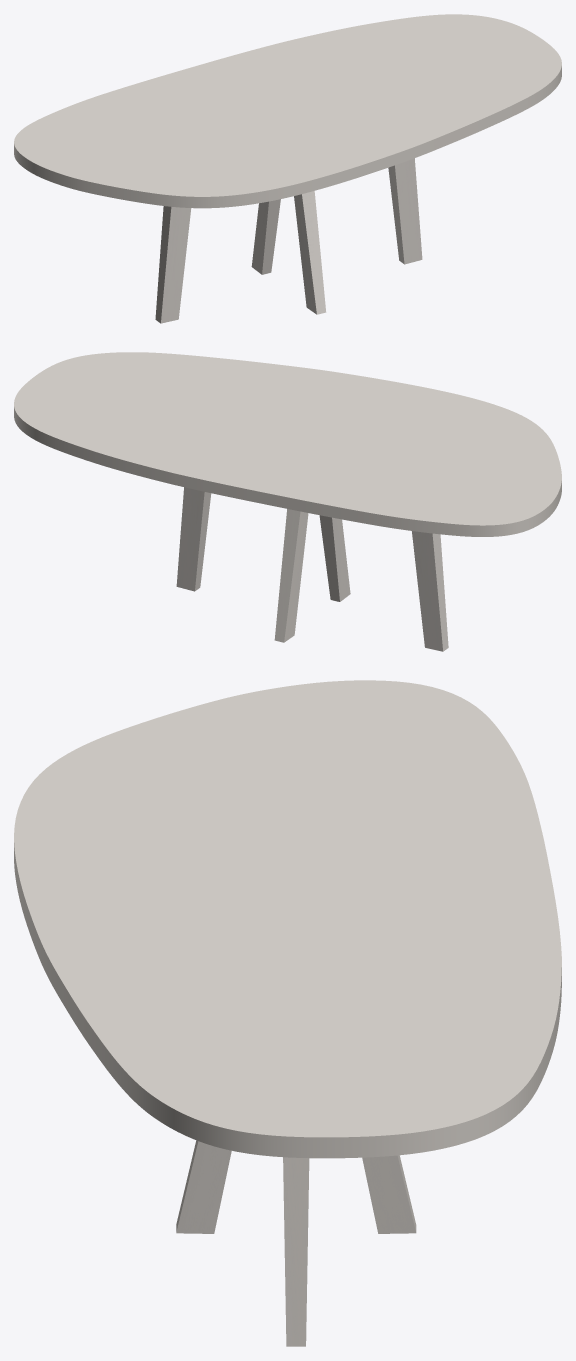
Rendered from pearlwhite_leaf2_standard_searwalnut.glb.
The picture shows the model from 3 angles, top to bottom: view 1: azimuth 30°, elevation 25°; view 2: azimuth 150°, elevation 25°; view 3: azimuth 270°, elevation 25°; orthographic projection. The views are drawn at different scales.
Parts seen in each view (by area): view 1: standard_leaf2, searwalnut; view 2: standard_leaf2, searwalnut; view 3: standard_leaf2, searwalnut.
Part boxes in pixels (bbox=[...]): standard_leaf2: bbox=[14, 14, 561, 208]; searwalnut: bbox=[155, 158, 422, 323]; standard_leaf2: bbox=[14, 352, 561, 536]; searwalnut: bbox=[176, 487, 448, 651]; standard_leaf2: bbox=[14, 680, 561, 1158]; searwalnut: bbox=[176, 1140, 416, 1346].
Bounding box in the file's own units: 7.5 × 2.52 × 3.8.
1 material, 1 textured.
